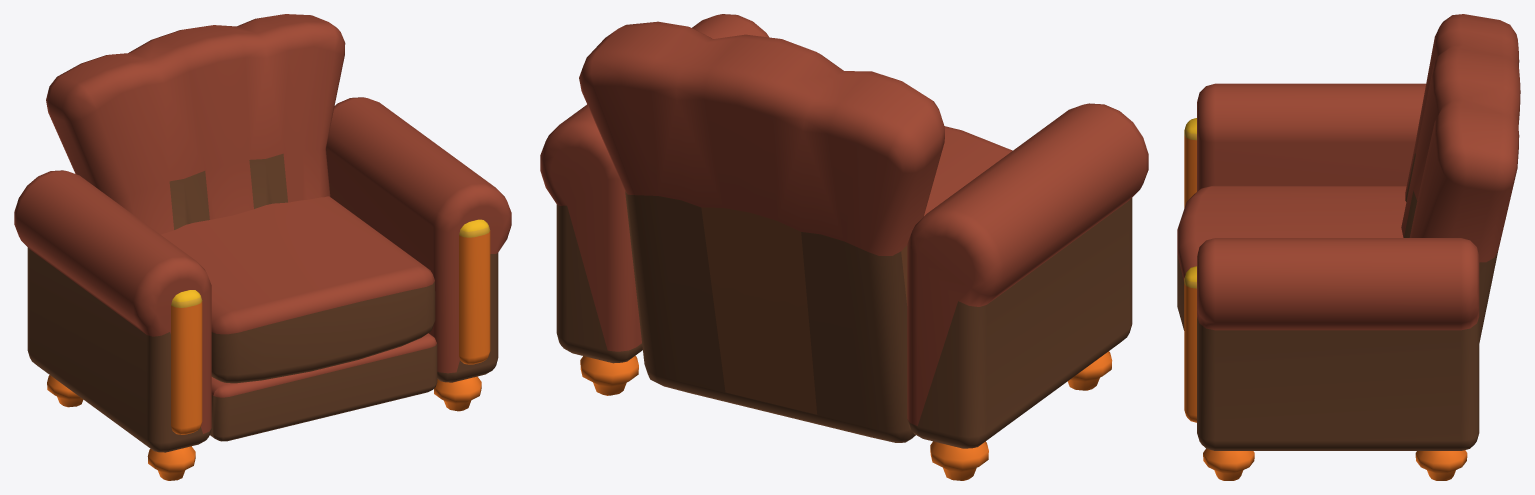
Rendered from poltrona_natal_estofada_marrom_pacote.glb.
3 renders of one model, left to right at view 1: azimuth 30°, elevation 25°; view 2: azimuth 150°, elevation 25°; view 3: azimuth 270°, elevation 25°, orthographic. The views are drawn at different scales.
Parts seen in each view (by area): view 1: poltrona_natal_estofada_marrom_pacote; view 2: poltrona_natal_estofada_marrom_pacote; view 3: poltrona_natal_estofada_marrom_pacote.
Part boxes in pixels (x1,y1,x2,y2): poltrona_natal_estofada_marrom_pacote: (14, 14, 511, 480); poltrona_natal_estofada_marrom_pacote: (540, 14, 1148, 480); poltrona_natal_estofada_marrom_pacote: (1177, 14, 1520, 480).
Size of the model in its own units: 1.11 by 0.9213 by 0.8344.
Materials: 1 (1 with a texture image).
